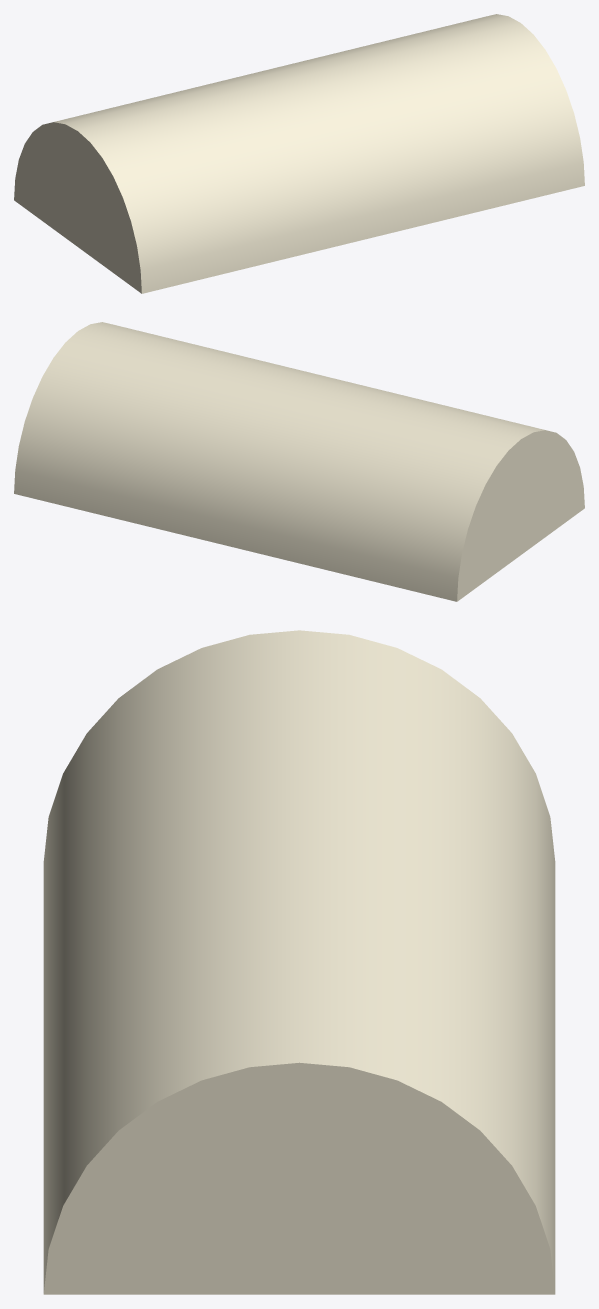
The model's file is AFJ_Simple_Wall_1Unit.fbx.
3 renders of one model, top to bottom at view 1: azimuth 30°, elevation 25°; view 2: azimuth 150°, elevation 25°; view 3: azimuth 270°, elevation 25°, orthographic. The views are drawn at different scales.
Parts seen in each view (by area): view 1: Module_Wall_1Unit; view 2: Module_Wall_1Unit; view 3: Module_Wall_1Unit.
Part boxes in pixels (bbox=[...]): Module_Wall_1Unit: bbox=[14, 14, 584, 293]; Module_Wall_1Unit: bbox=[14, 322, 584, 601]; Module_Wall_1Unit: bbox=[43, 630, 555, 1294].
Size of the model in its own units: 100 by 25 by 50.
